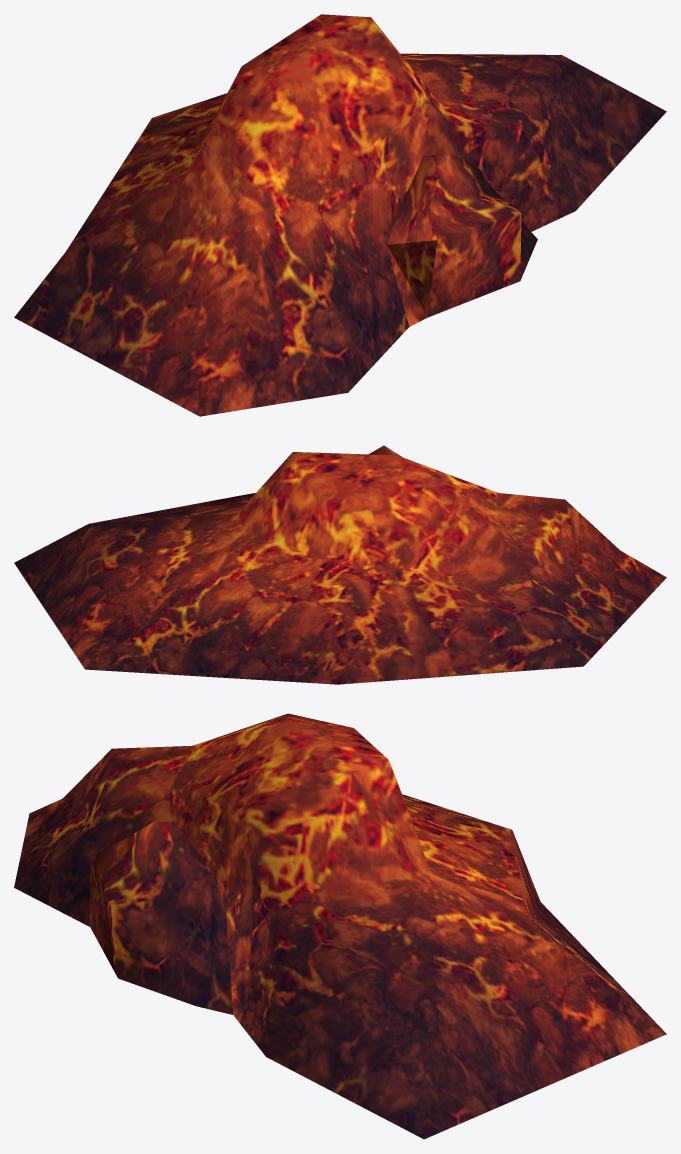
Rendered from Scene_yuanshitou_003.FBX.
3 views of the same model, one above another, from view 1: azimuth 30°, elevation 25°; view 2: azimuth 150°, elevation 25°; view 3: azimuth 270°, elevation 25° (orthographic). The views are drawn at different scales.
Parts seen in each view (by area): view 1: Scene_yuanshitou_003; view 2: Scene_yuanshitou_003; view 3: Scene_yuanshitou_003.
Boxes of the visible parts, x1=… form: Scene_yuanshitou_003: x1=14, y1=14, x2=666, y2=416; Scene_yuanshitou_003: x1=14, y1=445, x2=666, y2=684; Scene_yuanshitou_003: x1=14, y1=713, x2=666, y2=1139.
Bounding box in the file's own units: 48.44 × 13.63 × 38.71.
